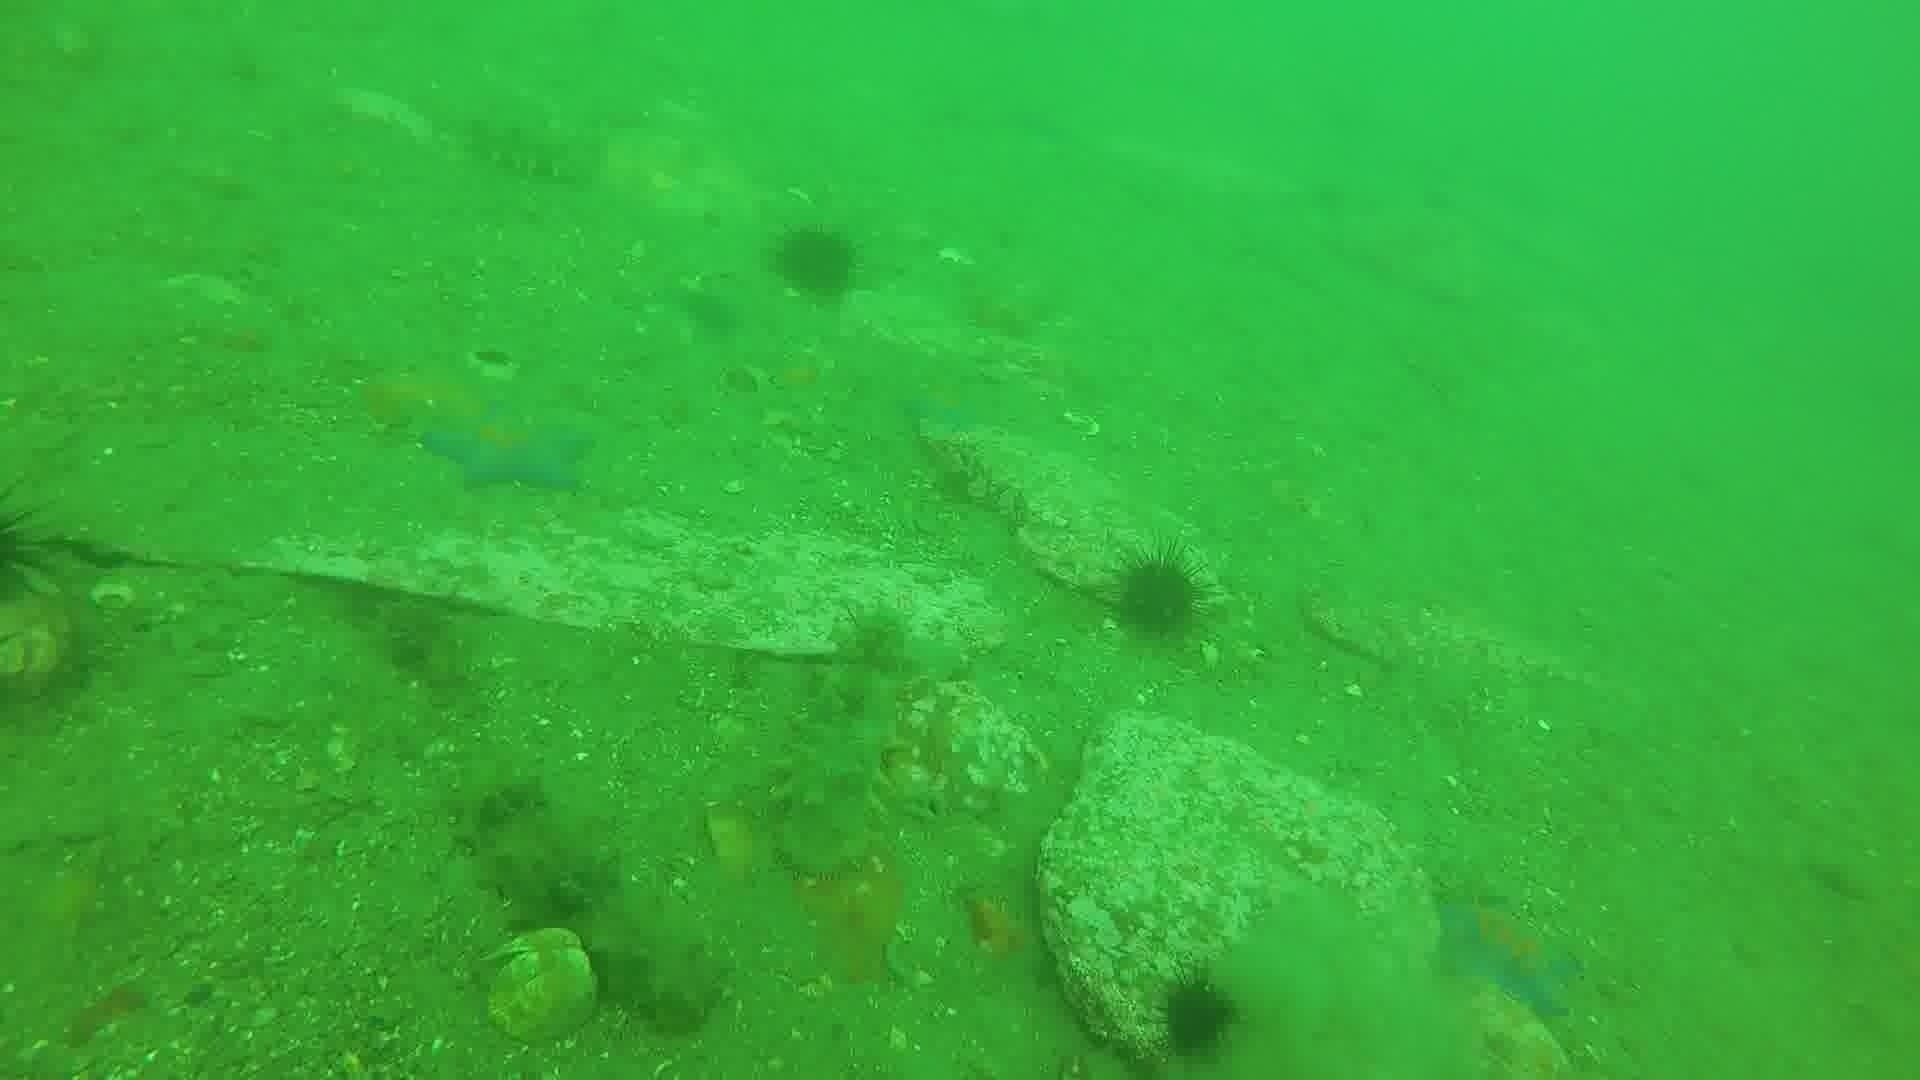echinus: (1104, 545, 1216, 647), (1151, 971, 1244, 1062), (767, 222, 864, 305), (1, 496, 65, 612)
holothurian: (454, 767, 728, 1033), (770, 607, 919, 880), (448, 107, 603, 189)
starfish: (1425, 887, 1582, 1021), (419, 400, 595, 498)
